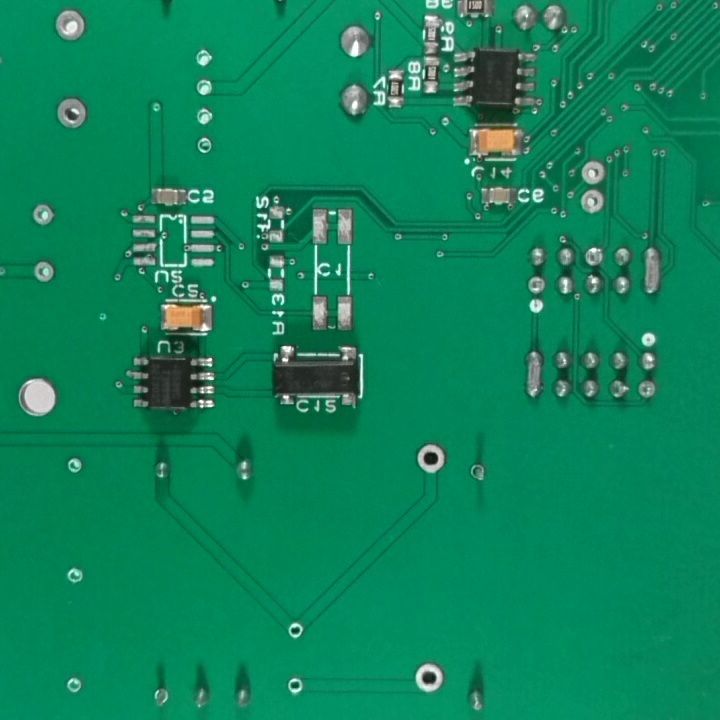F: (52, 6, 90, 44), (411, 441, 449, 477), (54, 95, 90, 132), (414, 659, 447, 697), (27, 200, 56, 229), (578, 157, 606, 186), (33, 256, 59, 283), (61, 452, 87, 479), (581, 243, 608, 269), (579, 190, 605, 217), (64, 566, 88, 593), (636, 379, 661, 404), (192, 47, 217, 70), (467, 461, 490, 486), (190, 78, 216, 100), (194, 107, 220, 129), (150, 685, 173, 709), (284, 675, 308, 698), (524, 275, 547, 299), (285, 618, 307, 642), (193, 138, 218, 158), (67, 676, 84, 698)
P: (639, 243, 666, 300), (521, 347, 547, 401)
